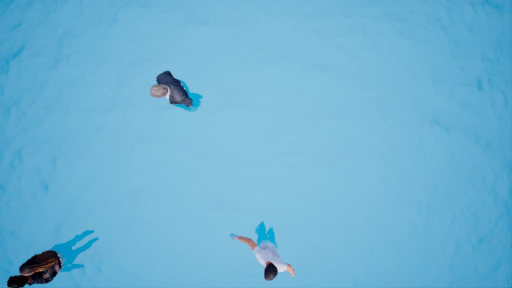person: (1, 221, 98, 285), (236, 211, 305, 284), (146, 62, 207, 109)
